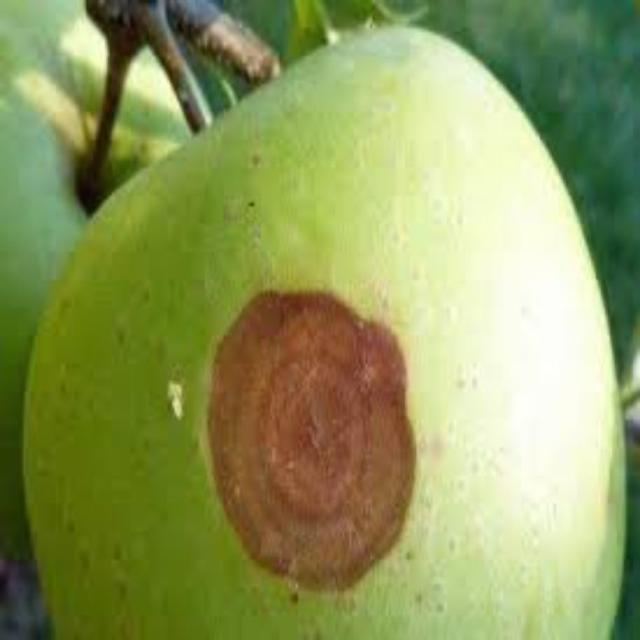Rotten Apple: (19, 32, 617, 635)
